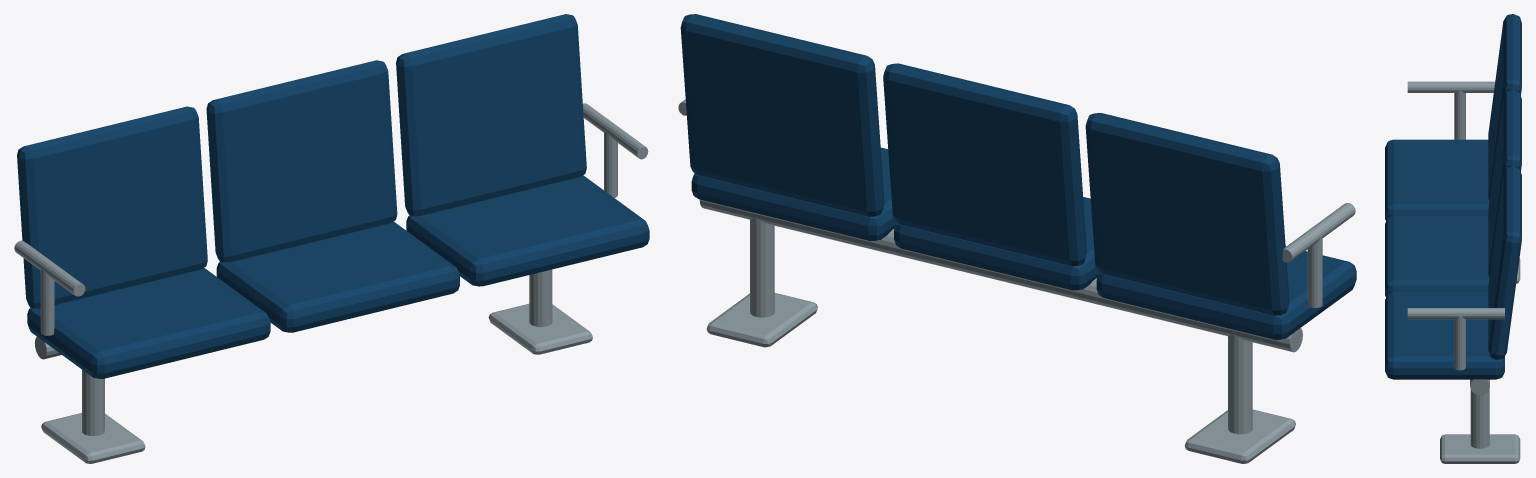
The model's file is edited.glb.
The picture shows the model from 3 angles, left to right: view 1: azimuth 30°, elevation 25°; view 2: azimuth 150°, elevation 25°; view 3: azimuth 270°, elevation 25°; orthographic projection. The views are drawn at different scales.
Parts seen in each view (by area): view 1: SEAT_Back.001, SEAT_Back.002, SEAT_Back, SEAT_Pan.001, SEAT_Pan.002, SEAT_Pan, FOOT_Plate.001, FOOT_Plate, SUPPORT_Foot, SUPPORT_Foot.001, ARM_Rest.001, ARM_Rest (+2 smaller); view 2: SEAT_Back.001, SEAT_Back.002, SEAT_Back, SEAT_Pan, FRAME_Rail, SEAT_Pan.001, SEAT_Pan.002, FOOT_Plate.001, FOOT_Plate, SUPPORT_Foot, SUPPORT_Foot.001, ARM_Rest.001 (+1 smaller); view 3: SEAT_Pan.002, SEAT_Pan.001, SEAT_Pan, SEAT_Back.002, SEAT_Back, SEAT_Back.001, FOOT_Plate.001, ARM_Rest, SUPPORT_Foot.001, ARM_Rest.001, ARM_Stand, ARM_Stand.001 (+1 smaller).
Boxes of the visible parts, box(x1,y1,x2,y2) form: SEAT_Back.001: box(206, 60, 397, 262); SEAT_Back.002: box(396, 14, 586, 216); SEAT_Back: box(17, 106, 207, 308); SEAT_Pan.001: box(216, 221, 459, 332); SEAT_Pan.002: box(406, 175, 649, 286); SEAT_Pan: box(27, 268, 270, 378); FOOT_Plate.001: box(488, 304, 592, 354); FOOT_Plate: box(41, 413, 145, 463); SUPPORT_Foot: box(82, 370, 104, 435); SUPPORT_Foot.001: box(529, 269, 552, 326); ARM_Rest.001: box(14, 240, 85, 296); ARM_Rest: box(583, 103, 648, 159); SEAT_Back.001: box(883, 63, 1086, 266); SEAT_Back.002: box(680, 14, 884, 216); SEAT_Back: box(1085, 113, 1289, 315); SEAT_Pan: box(1096, 251, 1356, 339); FRAME_Rail: box(699, 199, 1302, 352); SEAT_Pan.001: box(894, 197, 1099, 290); SEAT_Pan.002: box(691, 147, 896, 240); FOOT_Plate.001: box(706, 293, 817, 347); FOOT_Plate: box(1184, 409, 1295, 463); SUPPORT_Foot: box(1228, 334, 1252, 434); SUPPORT_Foot.001: box(750, 217, 774, 317); ARM_Rest.001: box(1282, 203, 1355, 262); SEAT_Pan.002: box(1385, 291, 1504, 379); SEAT_Pan.001: box(1385, 215, 1489, 297); SEAT_Pan: box(1385, 139, 1489, 220); SEAT_Back.002: box(1488, 166, 1521, 359); SEAT_Back: box(1488, 14, 1521, 200); SEAT_Back.001: box(1488, 90, 1521, 277); FOOT_Plate.001: box(1440, 434, 1520, 463); ARM_Rest: box(1407, 308, 1504, 319); SUPPORT_Foot.001: box(1470, 389, 1489, 448); ARM_Rest.001: box(1407, 81, 1495, 92); ARM_Stand: box(1454, 316, 1465, 370); ARM_Stand.001: box(1454, 90, 1465, 139).
Bounding box in the file's own units: 2.19 × 1.06 × 0.5472.
